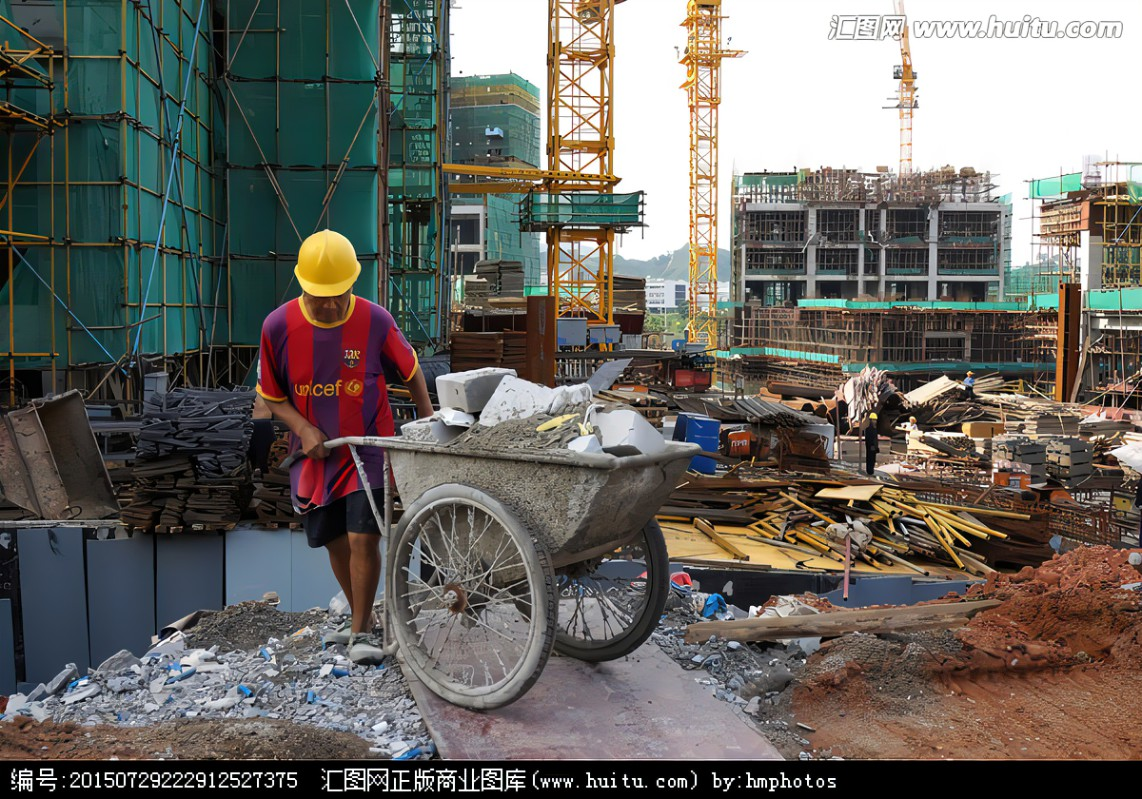safetyhat: (214, 211, 438, 491)
